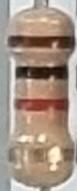Black: (16, 65, 68, 79)
Brown: (8, 34, 75, 50)
Red: (15, 98, 69, 111)
Side-Silver: (7, 148, 74, 164)
